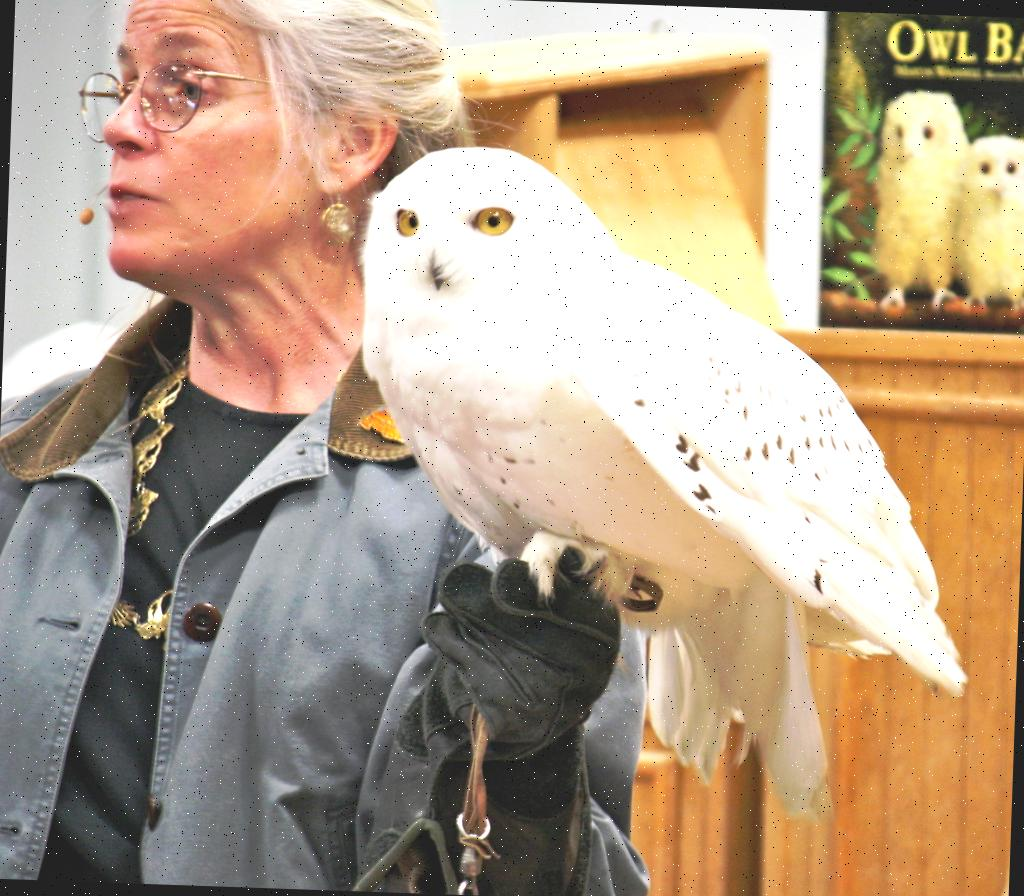Owl: (334, 141, 986, 827), (866, 82, 976, 314), (951, 131, 1024, 312)
